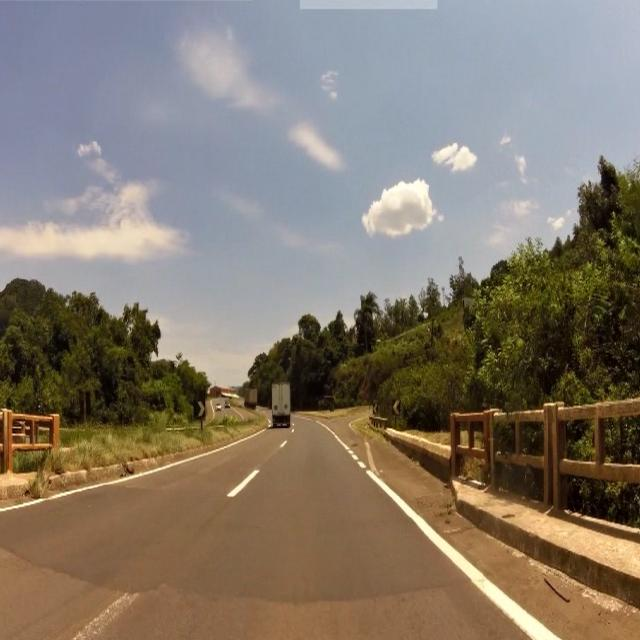Del: (194, 398, 208, 421), (392, 399, 402, 416), (372, 404, 380, 418)
